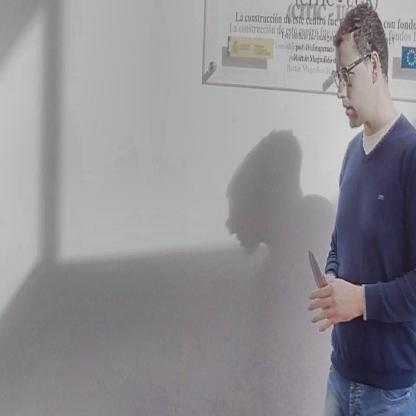knife: (304, 240, 334, 312)
